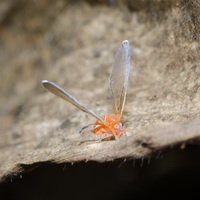insect: (42, 40, 129, 136)
